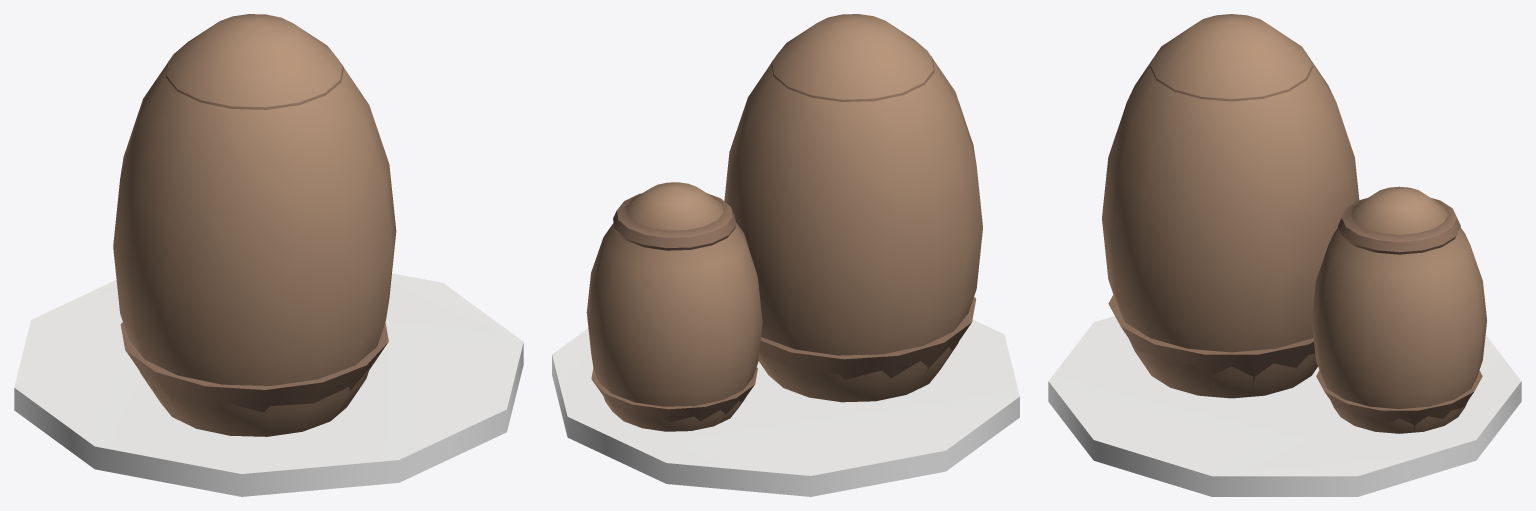
Rendered from Kerb_Onggi.fbx.
The picture shows the model from 3 angles, left to right: view 1: azimuth 30°, elevation 25°; view 2: azimuth 150°, elevation 25°; view 3: azimuth 270°, elevation 25°; orthographic projection. The views are drawn at different scales.
Parts seen in each view (by area): view 1: Kerb_Onggi; view 2: Kerb_Onggi; view 3: Kerb_Onggi.
Part boxes in pixels (box(x1,y1,x2,y2)): Kerb_Onggi: box(14, 14, 523, 496); Kerb_Onggi: box(552, 14, 1019, 496); Kerb_Onggi: box(1048, 14, 1521, 496).
Bounding box in the file's own units: 1.18 × 1.14 × 1.24.
